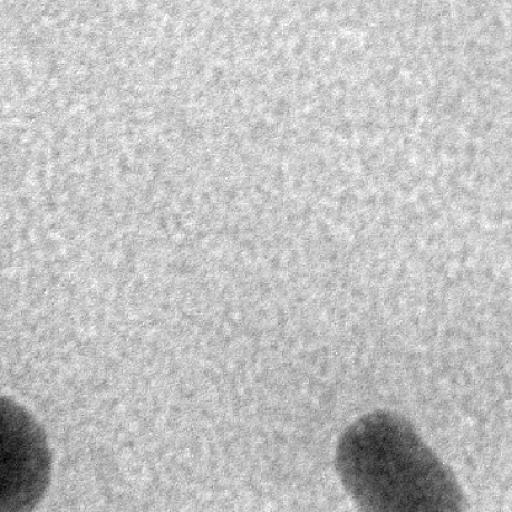Nanoparticles: (336, 400, 418, 490), (2, 392, 60, 512), (368, 448, 468, 512)
